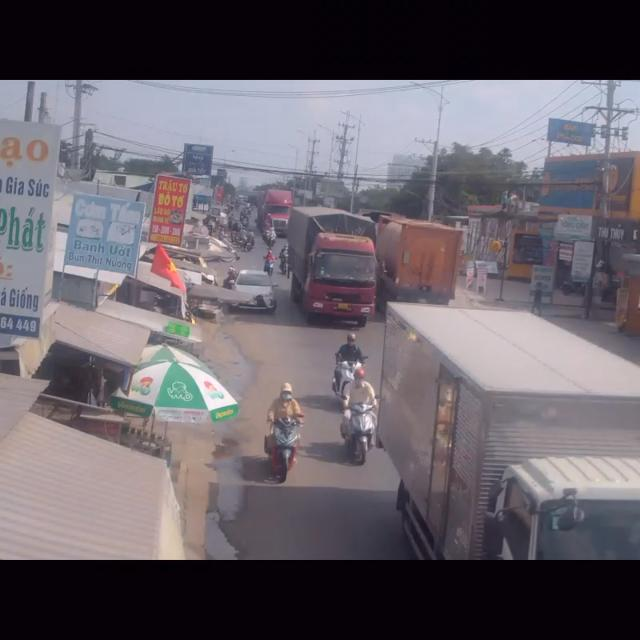motorbike: (339, 361, 382, 464), (263, 382, 302, 483), (333, 329, 366, 399)
truck: (383, 302, 640, 562), (286, 205, 381, 322), (375, 218, 464, 305)
